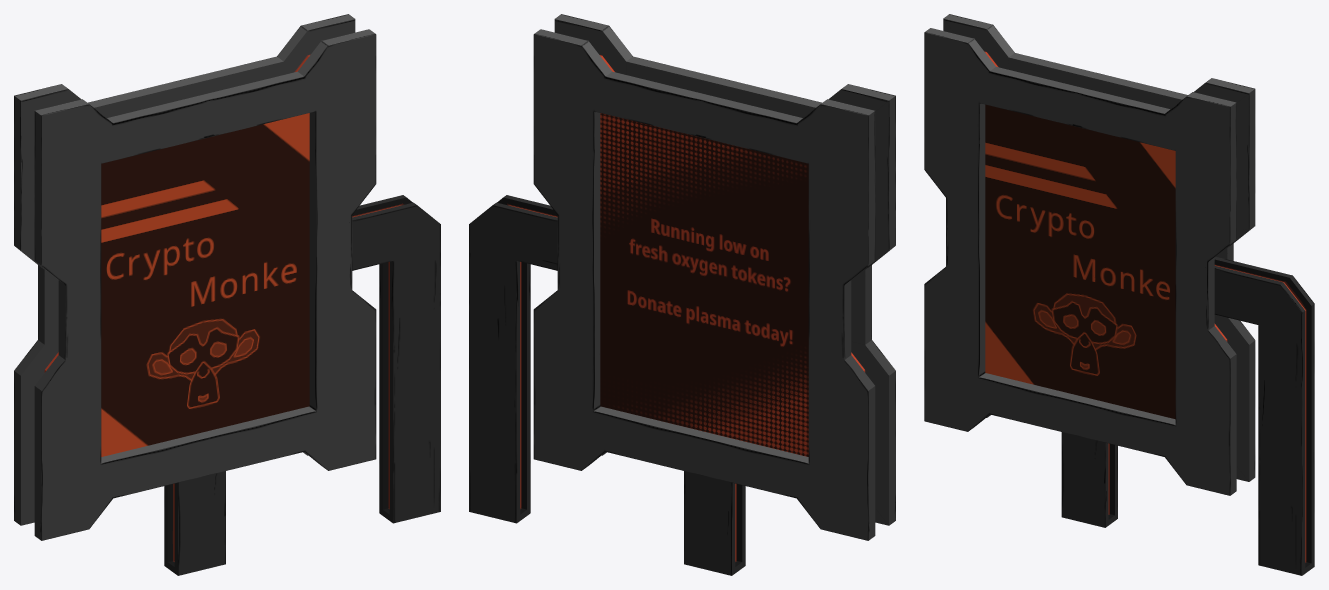
File: sign.fbx
The picture shows the model from 3 angles, left to right: view 1: azimuth 30°, elevation 25°; view 2: azimuth 150°, elevation 25°; view 3: azimuth 330°, elevation 25°; orthographic projection. The views are drawn at different scales.
Parts seen in each view (by area): view 1: sign; view 2: sign; view 3: sign.
Part boxes in pixels (left/top/right/bottom): sign: left=14, top=14, right=440, bottom=575; sign: left=469, top=14, right=895, bottom=575; sign: left=924, top=14, right=1314, bottom=575.
Size of the model in its own units: 170 by 200 by 20.
